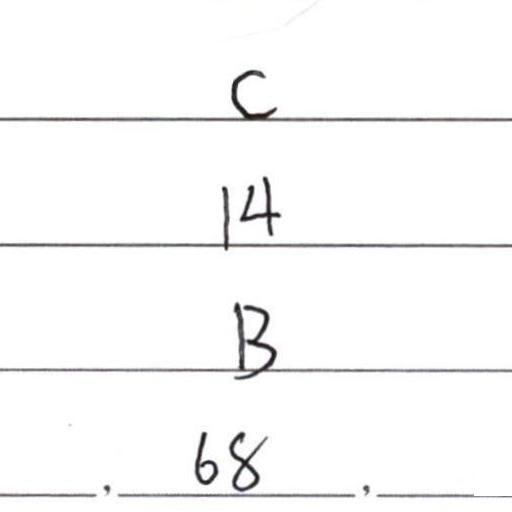ans: (193, 423, 271, 493), (217, 173, 281, 247), (229, 297, 278, 382), (228, 68, 279, 121)
